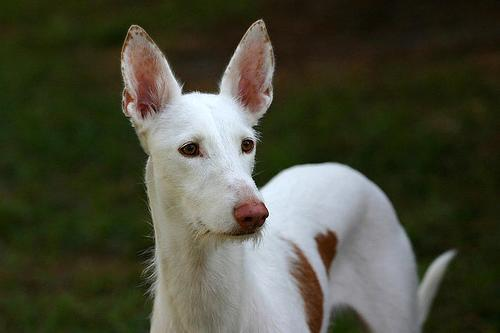Ibizan_hound: (120, 16, 455, 332)
